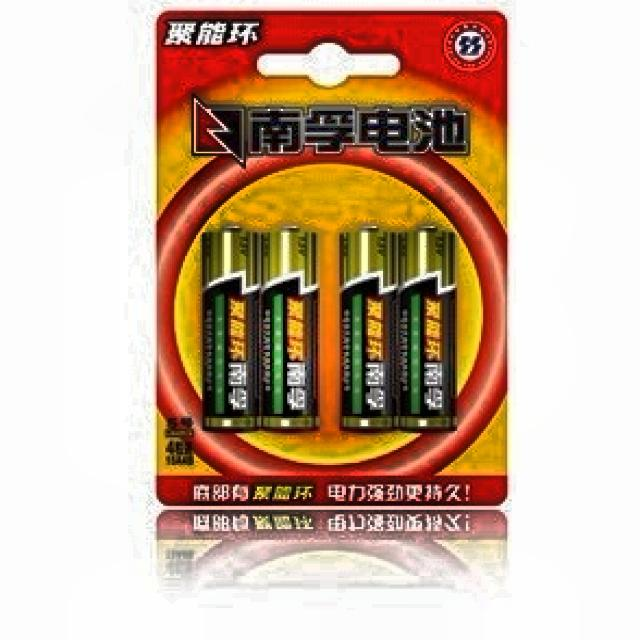Non-Valuable Waste - Batteries: (203, 226, 317, 431), (342, 228, 455, 431)
